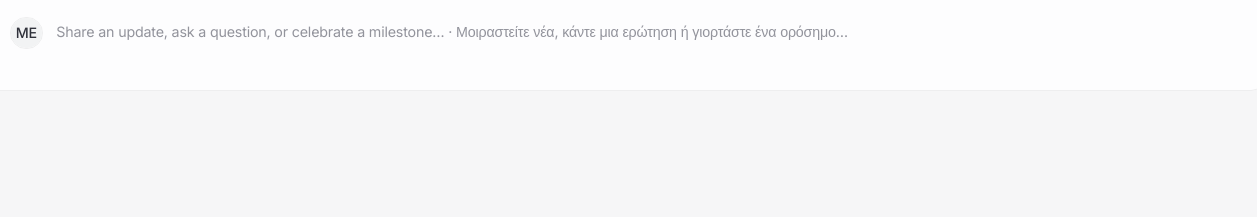
Test: FeedPostComposer › keeps the draft and shows inline feedback when onPost throws
Step 1. Focus the text box named "Write a post" → x=641, y=42, box [48, 17, 1234, 67]
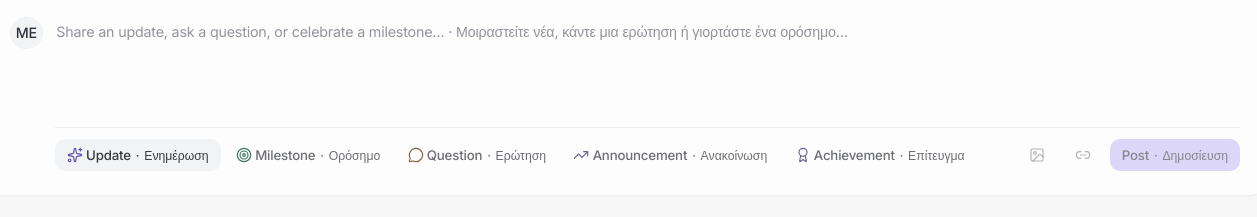
Step 2. Replace the text in the text box named "Write a post" with "Draft text" → x=641, y=67, box [48, 17, 1234, 117]
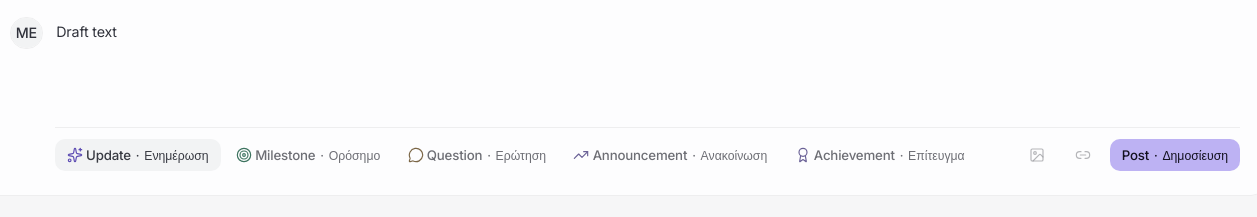
Step 3. Click the button "Post·Δημοσίευση" → x=1175, y=155, box [1110, 140, 1240, 171]
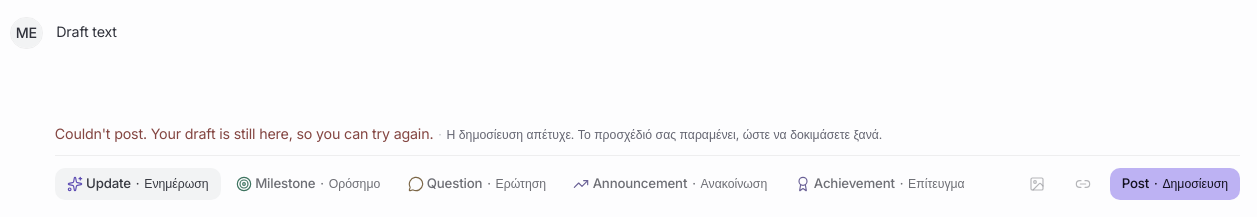
Now the message shows "draft is still here", box [55, 125, 433, 142]
